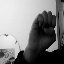e: (28, 9, 57, 50)
